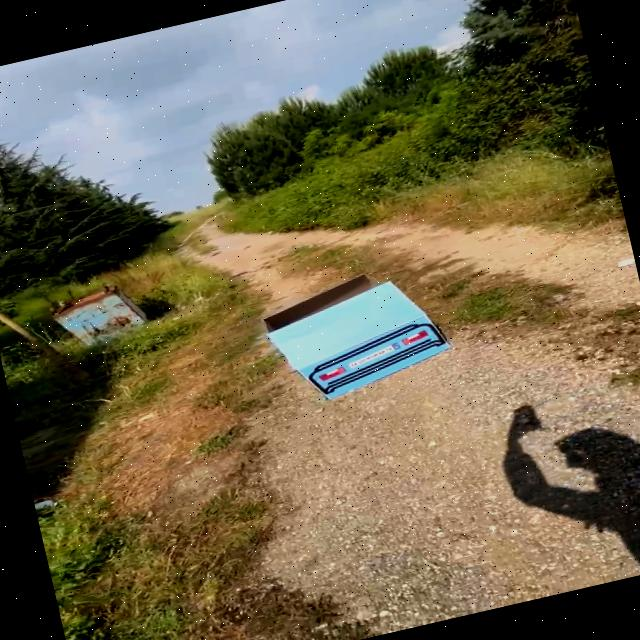blue_car: (250, 242, 474, 421)
